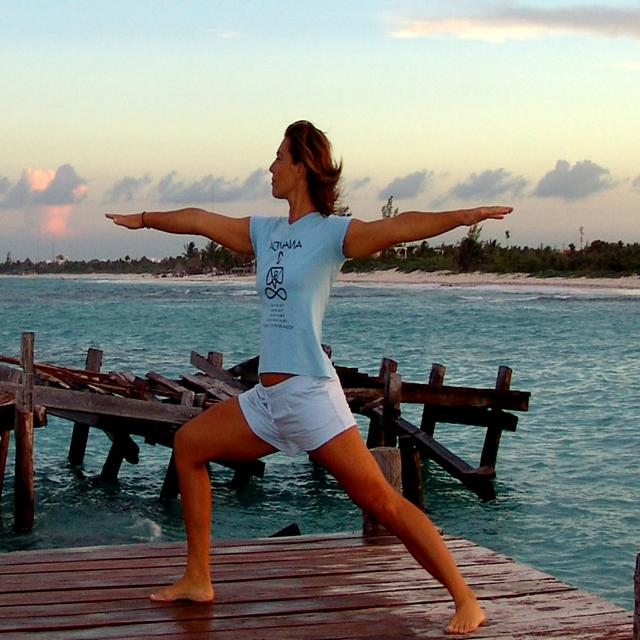Warrior_II: (103, 116, 514, 635)
